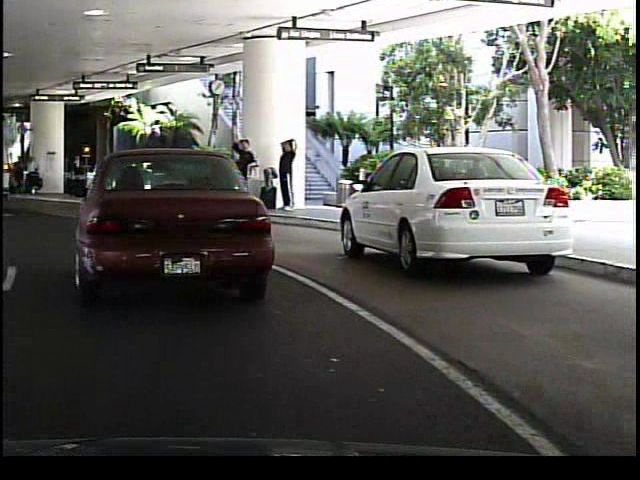person: (228, 132, 255, 212), (275, 133, 297, 212), (286, 146, 309, 210), (122, 156, 138, 195)
